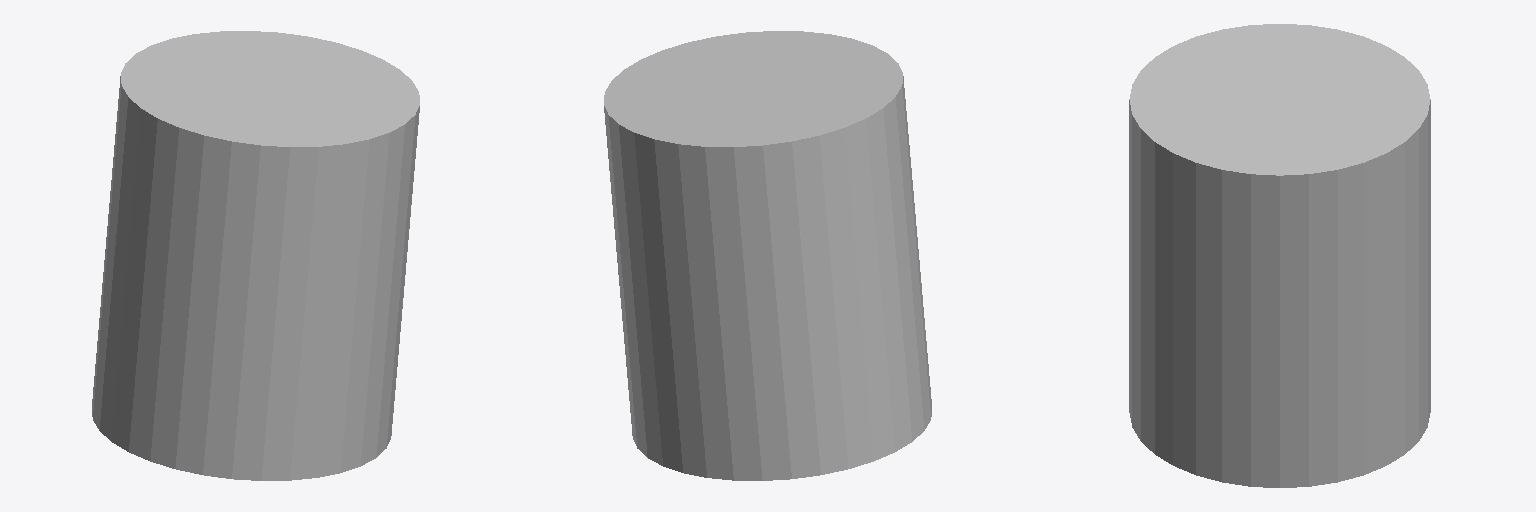
Rendered from tire.obj.
3 renders of one model, left to right at view 1: azimuth 30°, elevation 25°; view 2: azimuth 150°, elevation 25°; view 3: azimuth 270°, elevation 25°, orthographic.
Parts seen in each view (by area): view 1: Cylinder; view 2: Cylinder; view 3: Cylinder.
Boxes of the visible parts, box(x1,y1,x2,y2) form: Cylinder: box(92, 31, 419, 480); Cylinder: box(604, 31, 931, 480); Cylinder: box(1129, 24, 1430, 487).
Size of the model in its own units: 2.27 by 2.65 by 2.05.